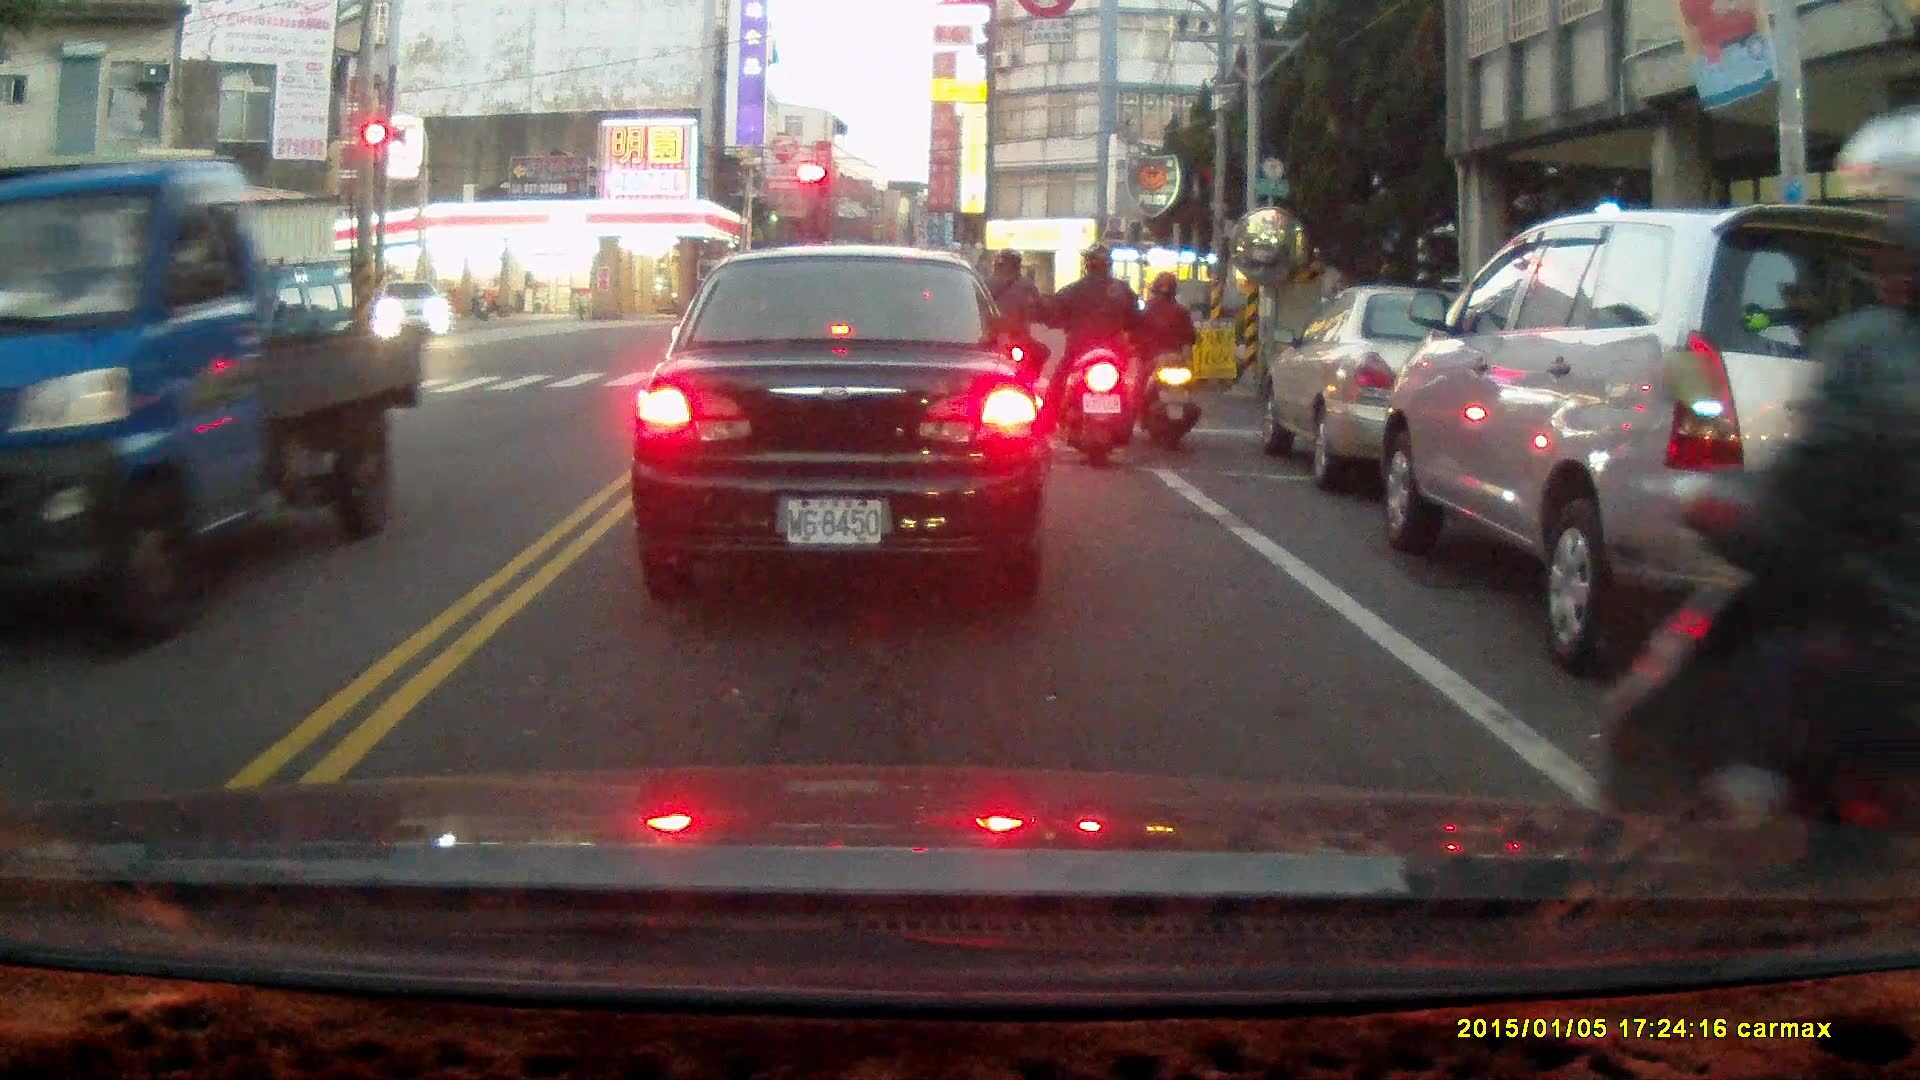rider: (1593, 107, 1920, 986), (1037, 245, 1144, 467), (964, 253, 1047, 432), (1130, 273, 1199, 451)
vehicle: (1379, 201, 1920, 679), (1, 158, 425, 647), (633, 249, 1042, 601), (1257, 286, 1566, 493), (204, 265, 389, 396), (372, 277, 451, 343)
